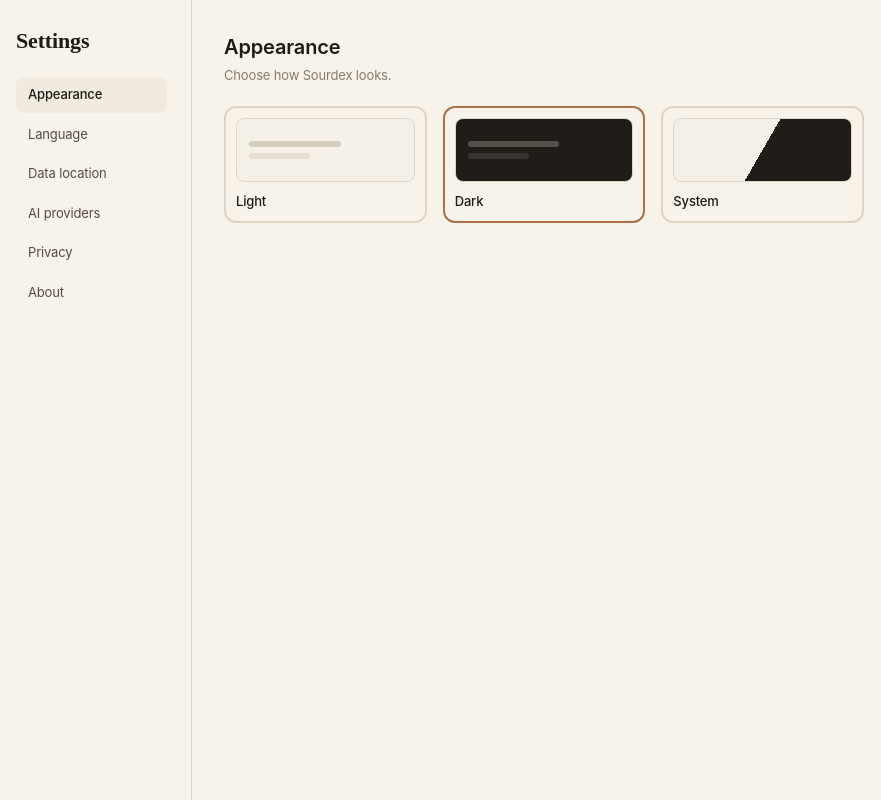
SettingsPage › switches to the data location section and shows the data directory
Step 1. Click the button "Data location" → point(92, 174), box [16,156,167,192]
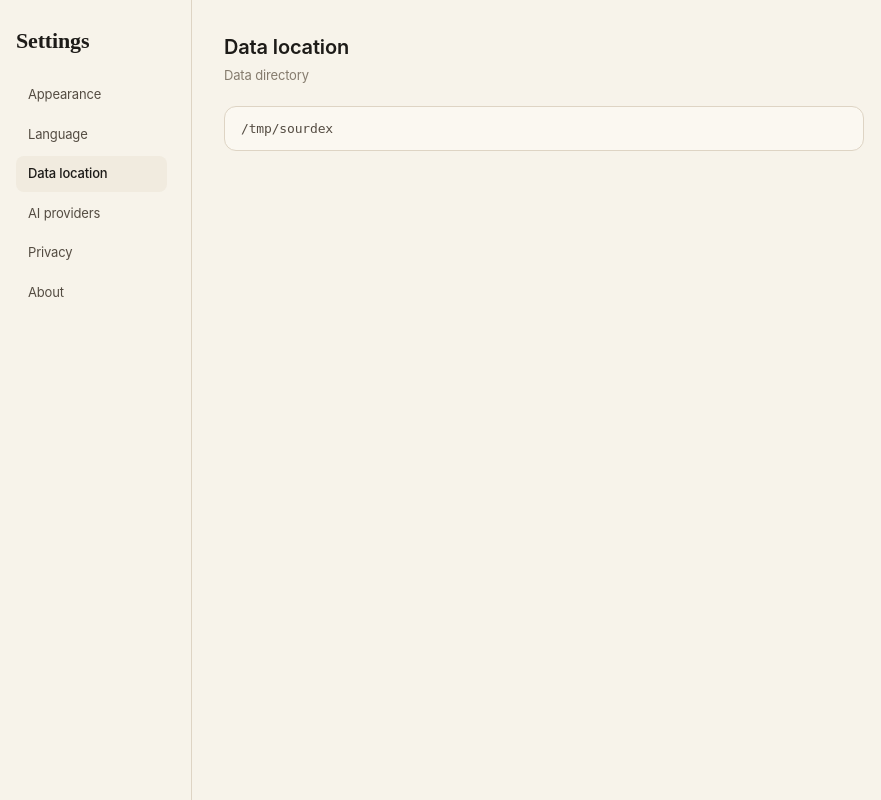
Expected: the text "/tmp/sourdex" is shown, [241,118,333,138]
